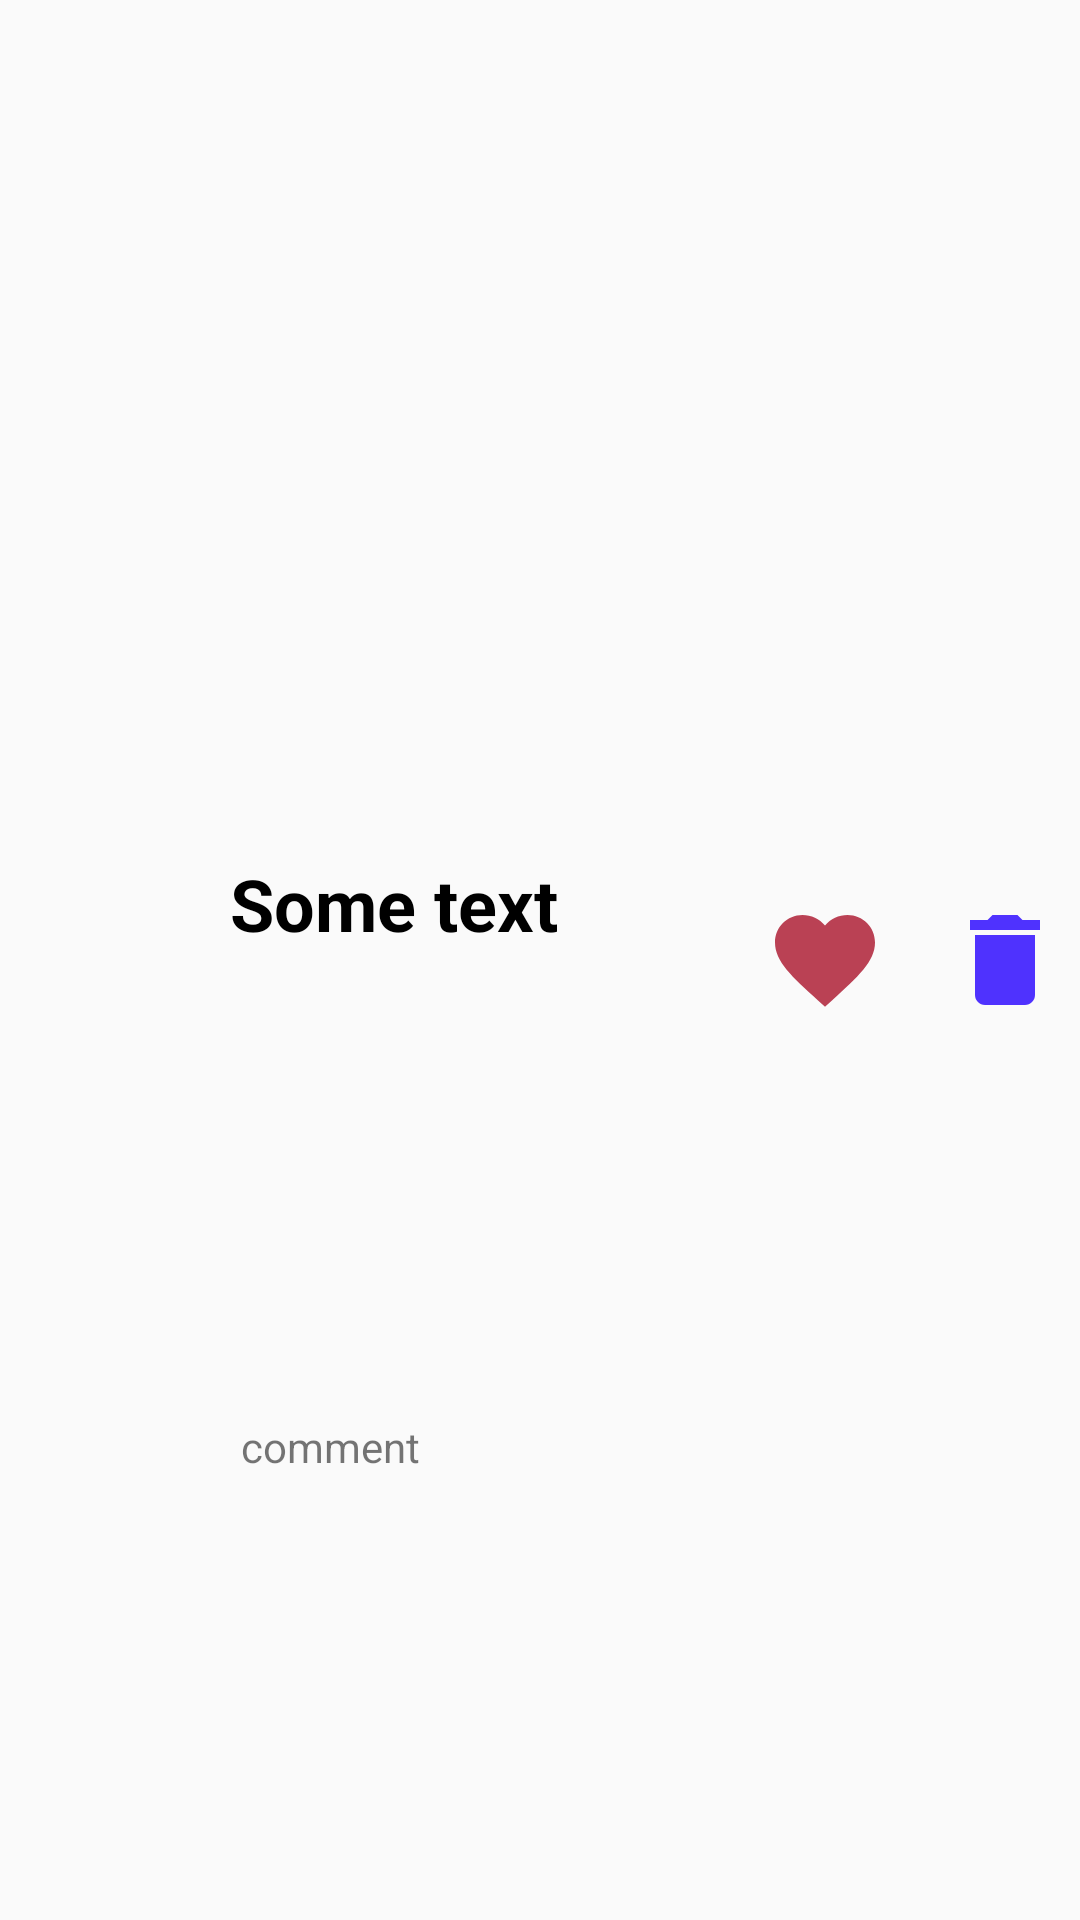

Icon bounding boxes for this 1080px x 1920px phone screenshot, format (x1, y1, x2, y2):
delite: (970, 915, 1040, 1005)
like: (775, 915, 875, 1007)
